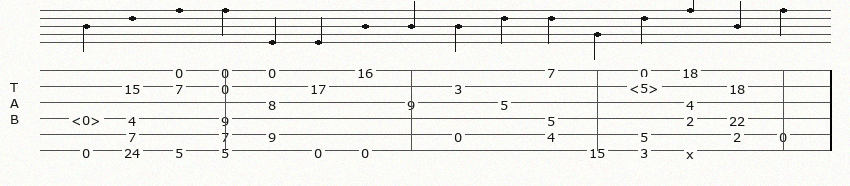0: (82, 144, 94, 157), (175, 64, 187, 77), (221, 64, 233, 77), (221, 80, 233, 93), (268, 64, 280, 77), (314, 144, 326, 157), (361, 144, 373, 157), (454, 128, 466, 141), (640, 64, 652, 77), (779, 128, 791, 141)
15: (124, 80, 144, 93), (589, 144, 609, 157)
16: (357, 64, 377, 77)
17: (310, 80, 330, 93)
18: (682, 64, 702, 77), (729, 80, 749, 93)
2: (686, 112, 698, 125), (733, 128, 745, 141)
22: (729, 112, 749, 125)
24: (124, 144, 144, 157)
3: (454, 80, 466, 93), (640, 144, 652, 157)
4: (128, 112, 140, 125), (547, 128, 559, 141), (686, 96, 698, 109)
5: (175, 144, 187, 157), (221, 144, 233, 157), (500, 96, 512, 109), (547, 112, 559, 125), (640, 128, 652, 141)
7: (128, 128, 140, 141), (175, 80, 187, 93), (221, 128, 233, 141), (547, 64, 559, 77)
8: (268, 96, 280, 109)
9: (221, 112, 233, 125), (268, 128, 280, 141), (407, 96, 419, 109)
harmonic: (71, 111, 105, 125), (629, 79, 663, 93)
x: (686, 145, 698, 156)
